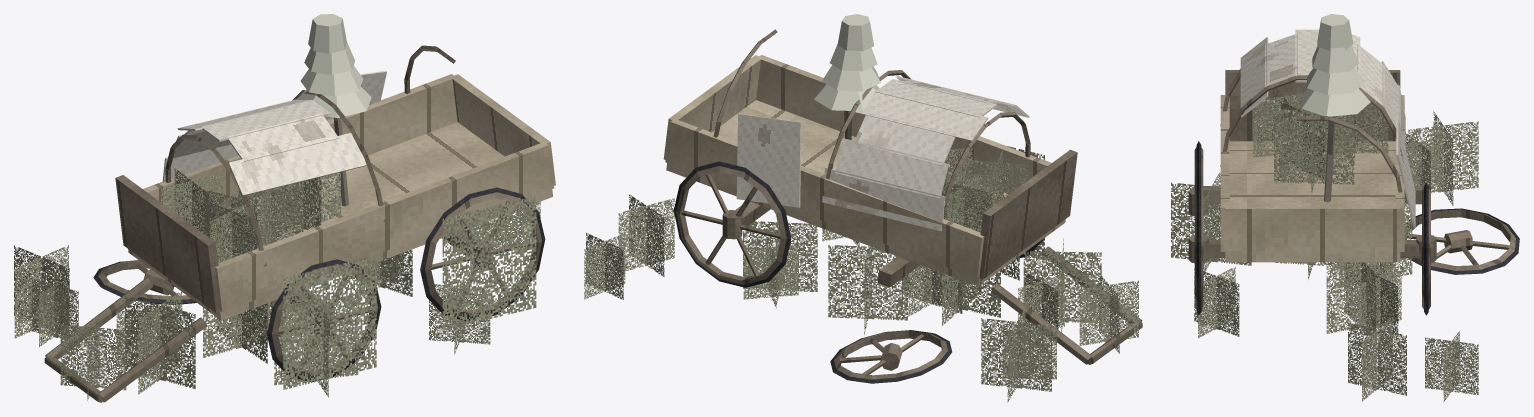
Rendered from wagon_overgrown.glb.
3 renders of one model, left to right at view 1: azimuth 30°, elevation 25°; view 2: azimuth 150°, elevation 25°; view 3: azimuth 270°, elevation 25°, orthographic. The views are drawn at different scales.
Visible parts, largest first — view 1: body; view 2: body; view 3: body.
Boxes of the visible parts, x1=… form: body: x1=14, y1=14, x2=555, y2=402; body: x1=584, y1=14, x2=1142, y2=402; body: x1=1171, y1=14, x2=1519, y2=402.
Bounding box in the file's own units: 3.76 × 2.12 × 2.39.
8 materials, 7 textured.
